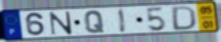5: (144, 6, 167, 32)
6: (25, 12, 47, 37)
D: (171, 5, 198, 31)
I: (118, 8, 129, 34)
N: (48, 11, 74, 37)
Q: (83, 10, 106, 35)
